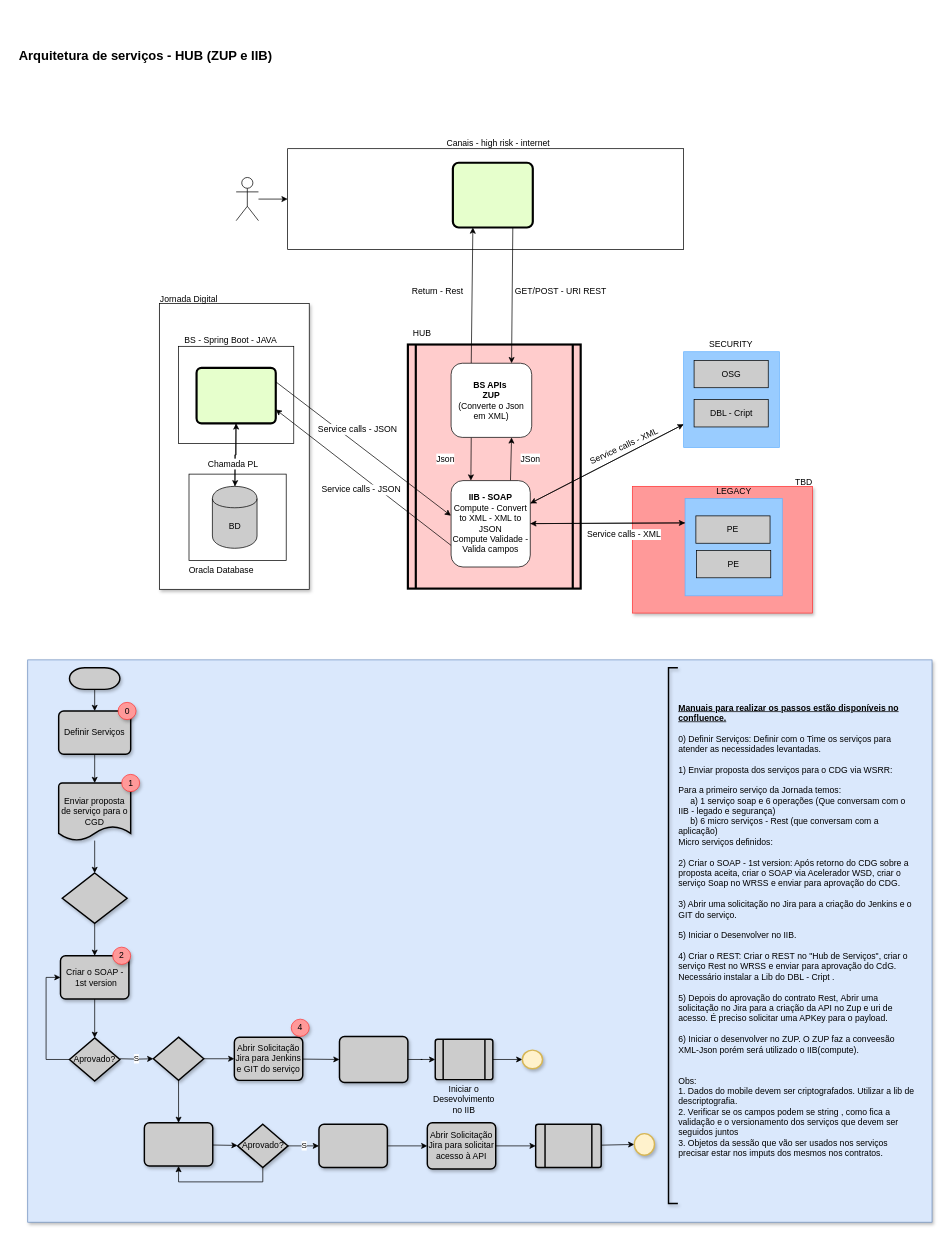
The diagram is 949 pixels wide and 1240 high, and some of its shapes have lost their labels. Here are the shapes that lost their labels. From the top down, the centre of each, then its label:
At point 246,199: "Cliente".
At point 492,194: "Mobile App".
At point 235,395: "Micro Services".
At point 95,679: "Inicio".
At point 95,899: "Proposta aprovada?".
At point 374,1060: "Abrir Solicitação Jira p/ solicitar acesso ao Jenkins e GIT".
At point 178,1145: "Criar REST - 1st version".
At point 353,1146: "Abrir Solicitação Jira para criar a API-Zup".
At point 569,1146: "Iniciar o Desevolvimento no ZUP".
